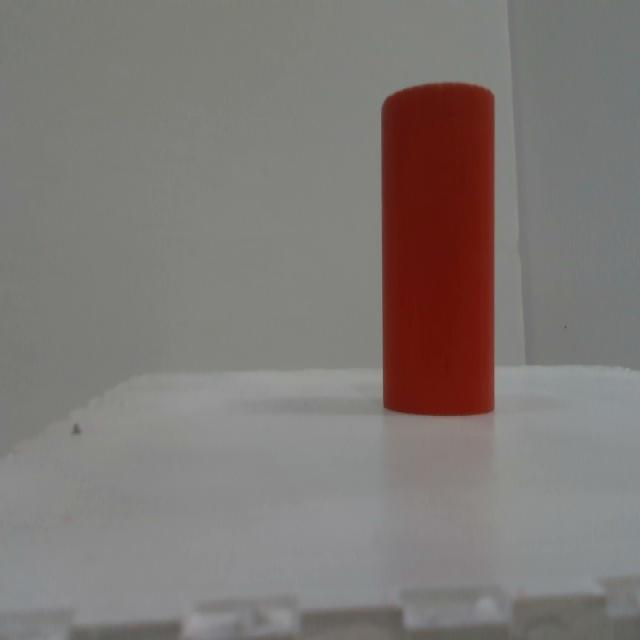red_cylinder: (380, 81, 498, 418)
